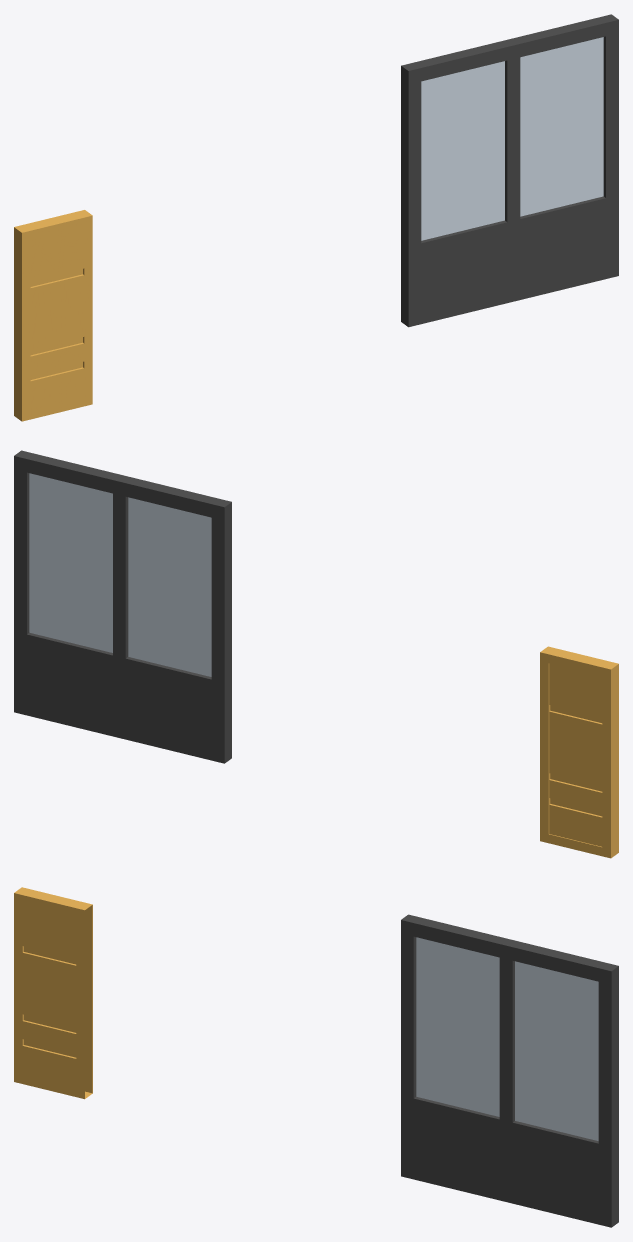
Rendered from 速食店.fbx_側邊物件_門窗_.fbx.
3 views of the same model, one above another, from view 1: azimuth 30°, elevation 25°; view 2: azimuth 150°, elevation 25°; view 3: azimuth 330°, elevation 25° (orthographic).
Visible parts, largest first — view 1: side window.002, side door R; view 2: side window.002, side door R; view 3: side window.002, side door R.
Boxes of the visible parts, <box> form: side window.002: <box>401,14,618,327</box>; side door R: <box>14,210,92,421</box>; side window.002: <box>14,450,231,763</box>; side door R: <box>540,646,618,858</box>; side window.002: <box>401,914,618,1227</box>; side door R: <box>14,887,92,1099</box>.
Size of the model in its own units: 1390 by 570 by 32.
